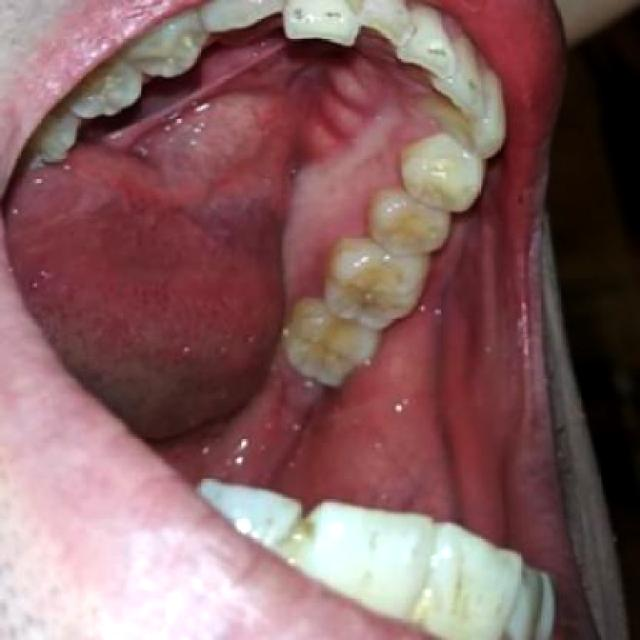Plaque: (301, 338, 353, 366), (350, 289, 405, 314)
